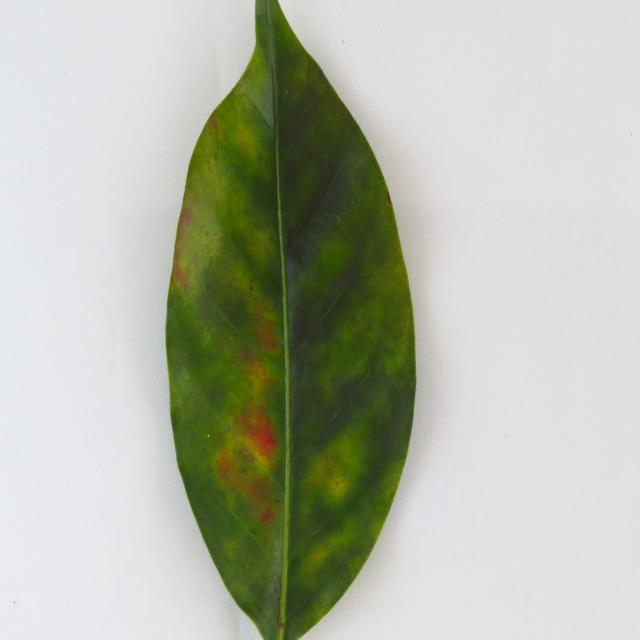DeficienciaNutricional-Fosforo: (166, 0, 416, 638)
